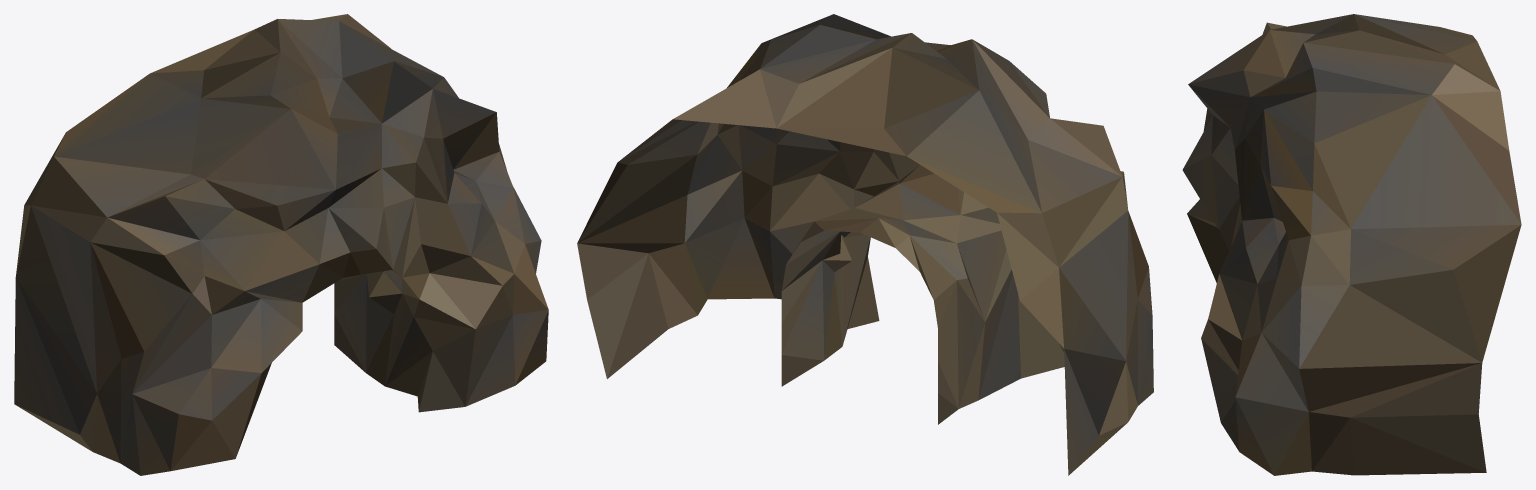
The model's file is Cave-Entrance.fbx.
3 views of the same model, side by side, from view 1: azimuth 30°, elevation 25°; view 2: azimuth 150°, elevation 25°; view 3: azimuth 270°, elevation 25° (orthographic).
Parts seen in each view (by area): view 1: Cave-Entrance; view 2: Cave-Entrance; view 3: Cave-Entrance.
Boxes of the visible parts, x1,y1,x2,y2 form: Cave-Entrance: (14,14,548,475); Cave-Entrance: (577,14,1153,475); Cave-Entrance: (1182,14,1521,475).
Size of the model in its own units: 1526 by 1036 by 949.
